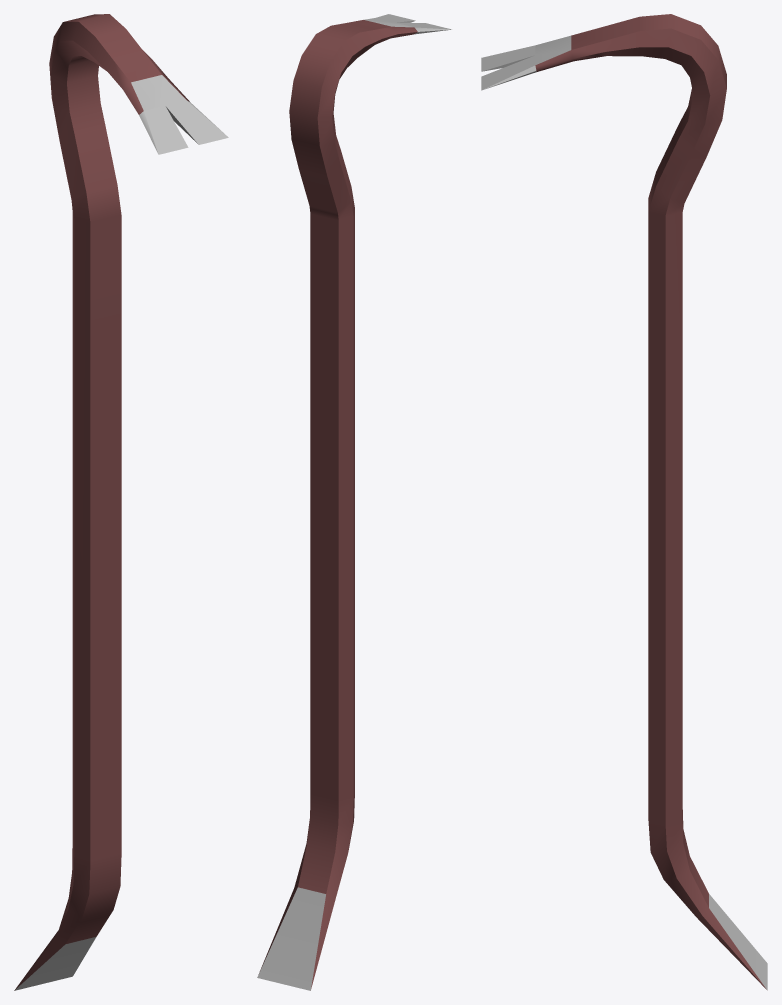
Rendered from Crowbar.fbx.
The picture shows the model from 3 angles, left to right: view 1: azimuth 30°, elevation 25°; view 2: azimuth 150°, elevation 25°; view 3: azimuth 270°, elevation 25°; orthographic projection. The views are drawn at different scales.
Visible parts, largest first — view 1: crowbar; view 2: crowbar; view 3: crowbar.
Boxes of the visible parts, x1=… form: crowbar: x1=14, y1=14, x2=228, y2=990; crowbar: x1=257, y1=14, x2=451, y2=990; crowbar: x1=481, y1=14, x2=767, y2=990.
Size of the model in its own units: 1.32 by 18.01 by 4.89.
